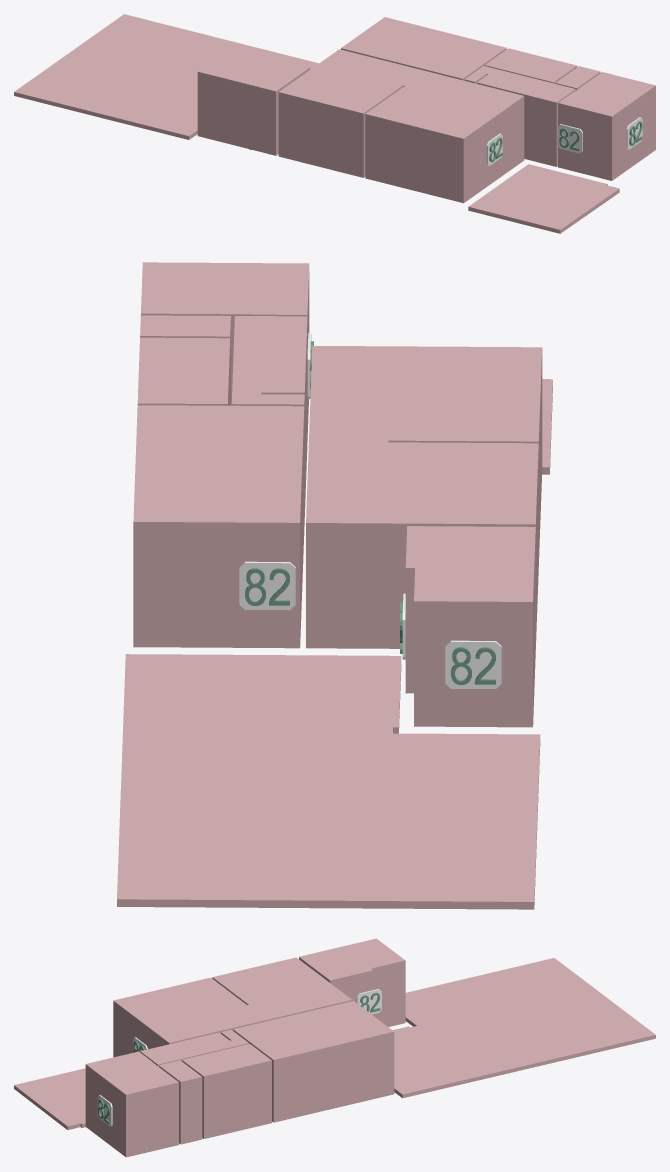
3 views of the same model, one above another, from view 1: azimuth 30°, elevation 25°; view 2: azimuth 150°, elevation 25°; view 3: azimuth 270°, elevation 25° (orthographic). The views are drawn at different scales.
Parts seen in each view (by area): view 1: g_9, g_4, g_3, g_0, g_2, g_8, g_1, g_5, g_6, g_7, g_15; view 2: g_9, g_1, g_3, g_0, g_4, g_2, g_5, g_6, g_7, g_21, g_24, g_8; view 3: g_9, g_1, g_2, g_4, g_6, g_0, g_3, g_8, g_7, g_5, g_27.
Part boxes in pixels (left/top/right/bottom): g_9: left=14, top=14, right=318, bottom=139; g_4: left=365, top=71, right=524, bottom=203; g_3: left=278, top=49, right=425, bottom=177; g_0: left=197, top=49, right=309, bottom=155; g_2: left=558, top=72, right=655, bottom=180; g_8: left=468, top=164, right=619, bottom=233; g_1: left=341, top=17, right=506, bottom=80; g_5: left=464, top=66, right=575, bottom=166; g_6: left=484, top=48, right=577, bottom=83; g_7: left=555, top=66, right=600, bottom=90; g_15: left=557, top=124, right=582, bottom=153; g_9: left=117, top=654, right=540, bottom=909; g_1: left=133, top=405, right=304, bottom=648; g_3: left=306, top=440, right=538, bottom=649; g_0: left=405, top=526, right=535, bottom=727; g_4: left=309, top=345, right=542, bottom=565; g_2: left=141, top=262, right=309, bottom=432; g_5: left=231, top=316, right=307, bottom=525; g_6: left=137, top=337, right=230, bottom=405; g_7: left=140, top=315, right=230, bottom=405; g_21: left=239, top=561, right=295, bottom=610; g_24: left=445, top=640, right=501, bottom=688; g_8: left=542, top=379, right=552, bottom=474; g_9: left=392, top=958, right=655, bottom=1098; g_1: left=233, top=1001, right=394, bottom=1122; g_2: left=85, top=1051, right=178, bottom=1157; g_4: left=113, top=977, right=266, bottom=1057; g_6: left=182, top=1044, right=271, bottom=1138; g_0: left=299, top=938, right=405, bottom=1026; g_3: left=212, top=957, right=352, bottom=1021; g_8: left=14, top=1068, right=85, bottom=1129; g_7: left=159, top=1060, right=202, bottom=1144; g_5: left=140, top=1029, right=248, bottom=1066; g_27: left=356, top=989, right=381, bottom=1014.
Bounding box in the file's own units: 17.01 × 2.65 × 23.07.
